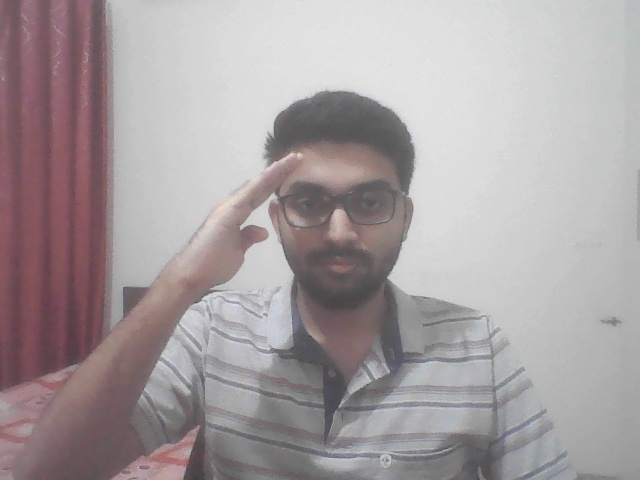hello: (133, 142, 304, 325)
